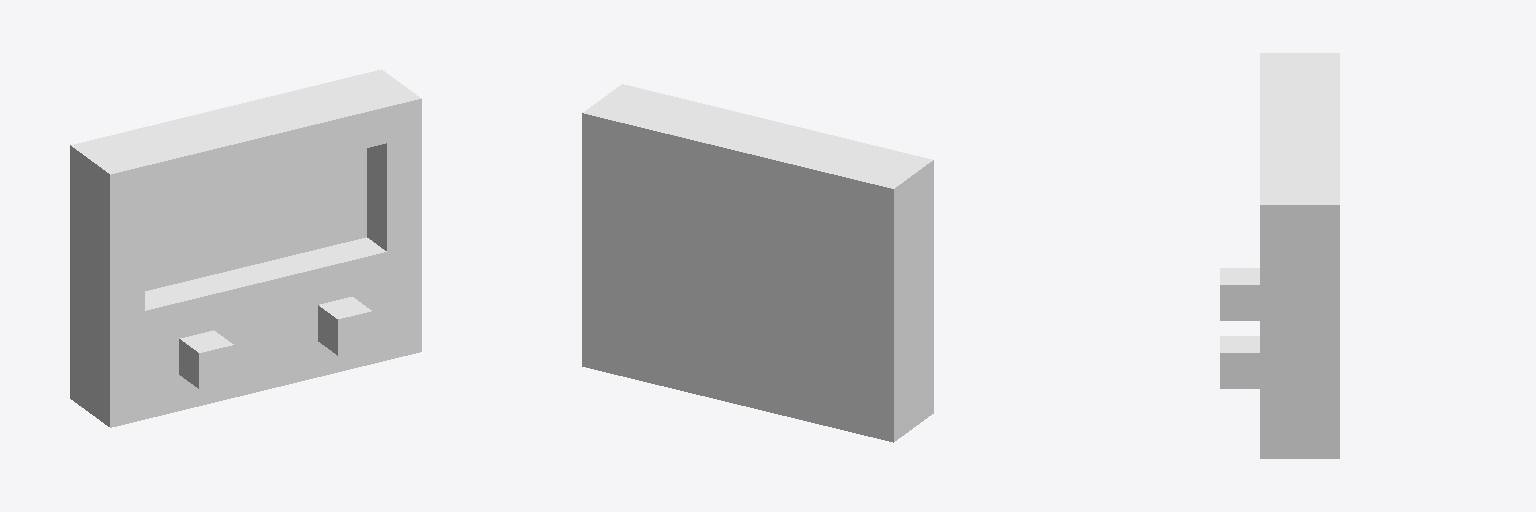
Rendered from Keypad2.obj.
The picture shows the model from 3 angles: view 1: azimuth 30°, elevation 25°; view 2: azimuth 150°, elevation 25°; view 3: azimuth 270°, elevation 25°; orthographic projection.
Visible parts, largest first — view 1: object 1; view 2: object 1; view 3: object 1.
Boxes of the visible parts, x1,y1,x2,y2 form: object 1: [70, 69, 421, 427]; object 1: [582, 84, 933, 442]; object 1: [1220, 53, 1339, 458].
Size of the model in its own units: 0.9 by 0.7 by 0.3.